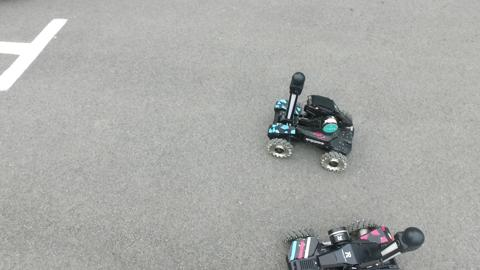chariot: (262, 66, 362, 179), (278, 206, 434, 270)
